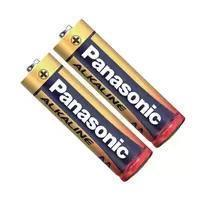AA: (51, 17, 188, 152), (19, 51, 155, 185)
